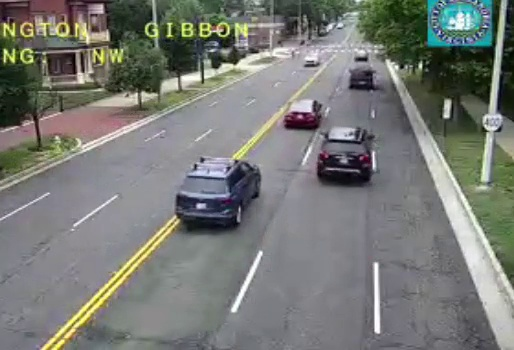car: (174, 158, 262, 221), (317, 128, 372, 178), (284, 99, 319, 128), (349, 66, 373, 89)
